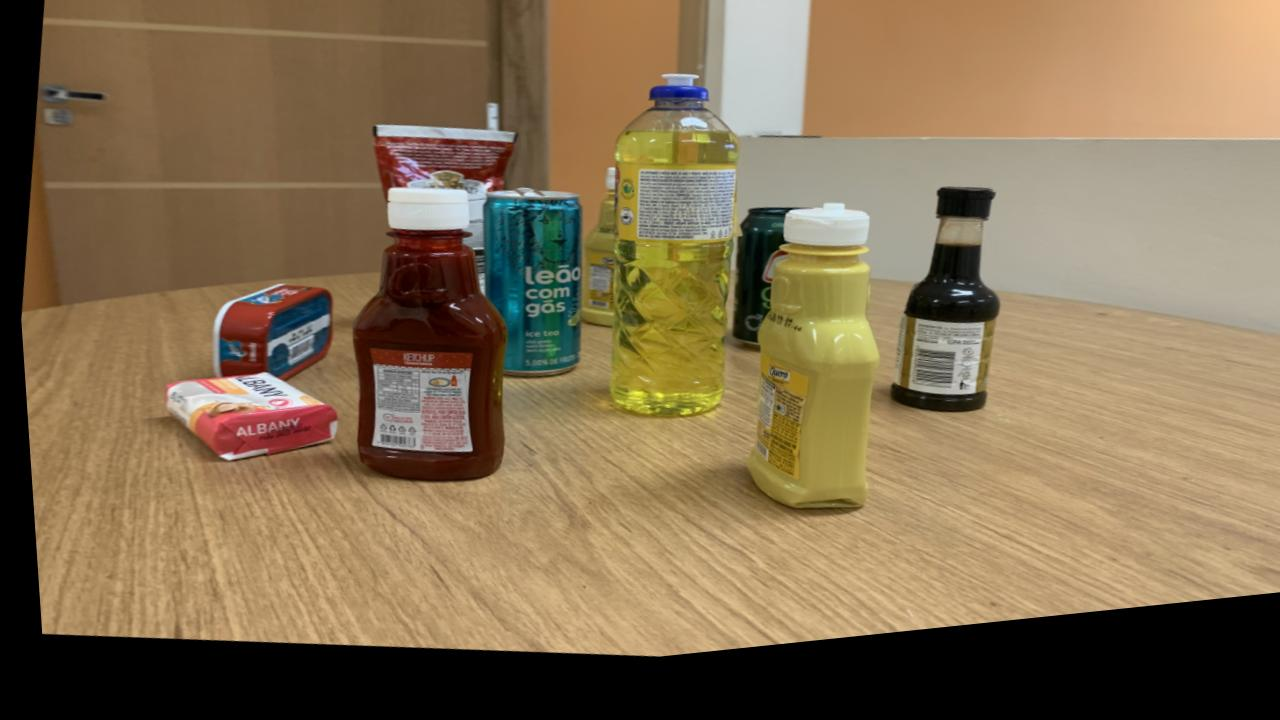Detergent-Cleanup_Items: (603, 88, 735, 430)
English_Sauce-Pantry_Items: (883, 207, 994, 431)
Guarana_Can-Drinks: (726, 223, 786, 360)
Ketchup-Pantry_Items: (347, 196, 501, 490)
Mustard-Pantry_Items: (739, 220, 872, 526), (575, 180, 614, 339)
Soap-Cleanup_Items: (159, 377, 331, 464)
Tea-Drinks: (479, 199, 579, 387)
Tomato_Sauce-Pantry_Items: (370, 133, 515, 288)
Tuna_Can-Pantry_Items: (207, 289, 328, 384)
